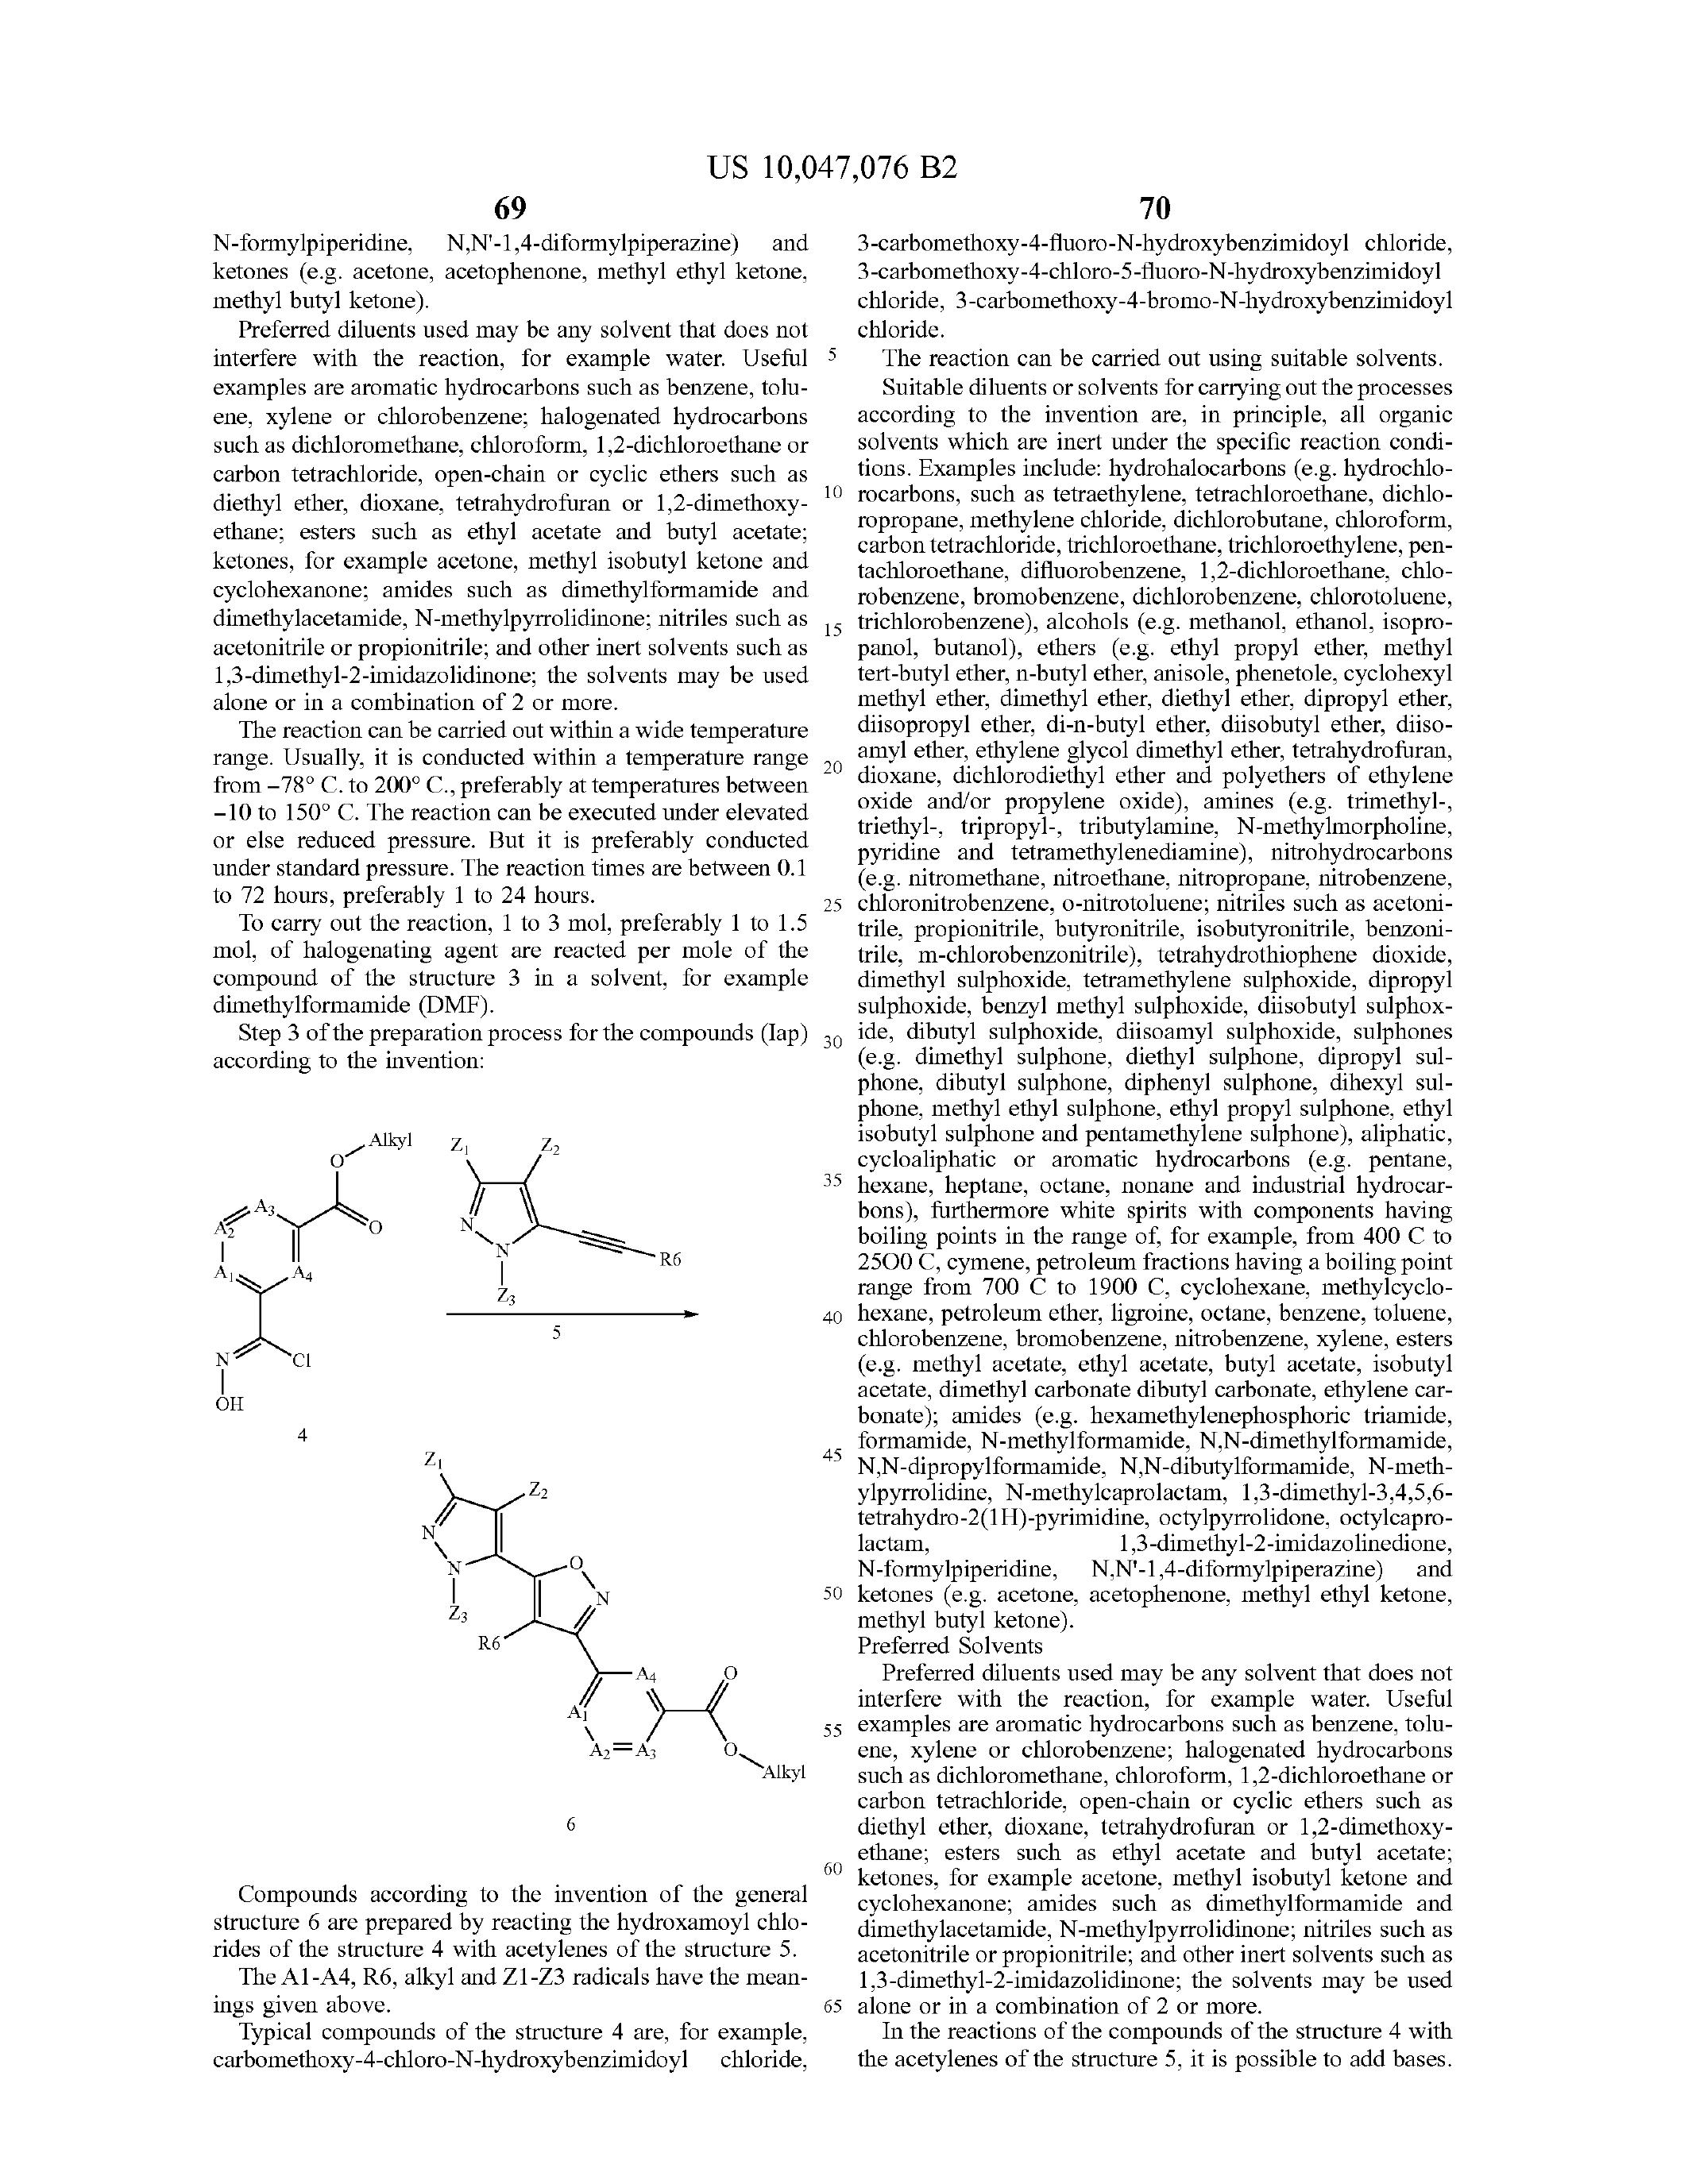reactions: (50, 1087, 819, 1826)
